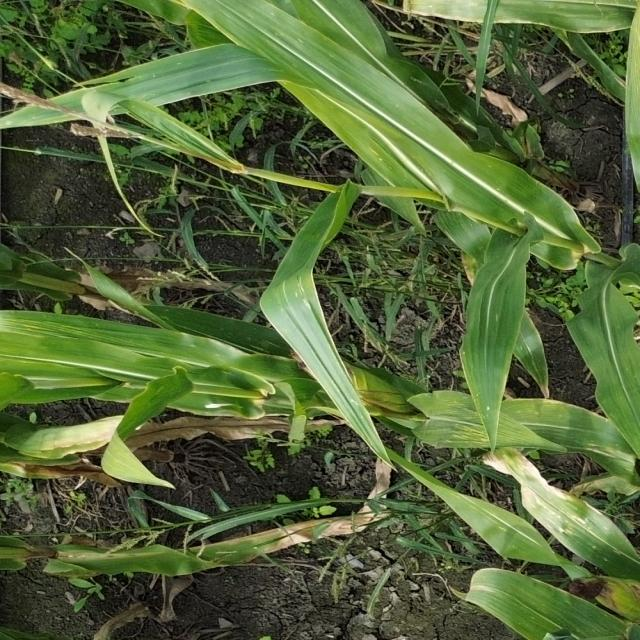gray-leaf-spot: (532, 488, 616, 557), (444, 414, 509, 451), (569, 431, 640, 464), (231, 325, 292, 357), (283, 270, 320, 314)
northern-leaf-blight: (24, 426, 116, 457)
